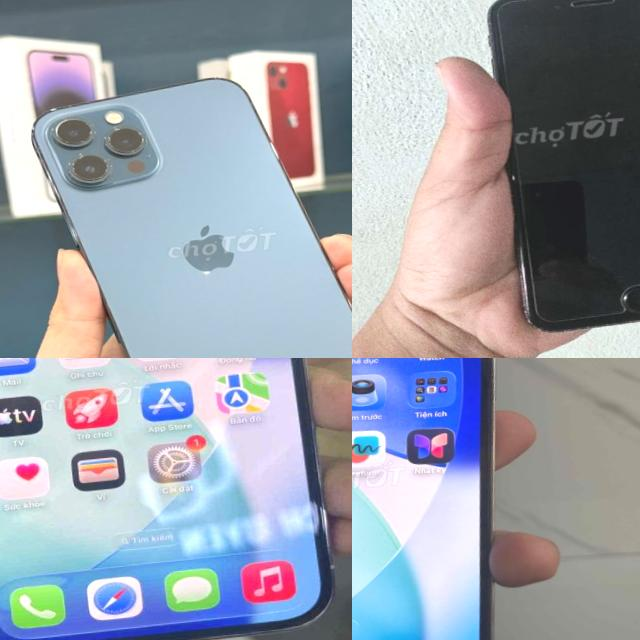gen_12_13: (0, 358, 352, 640), (25, 61, 352, 358)
gen_15: (352, 358, 537, 640)
gen_7_8: (475, 0, 640, 339)
